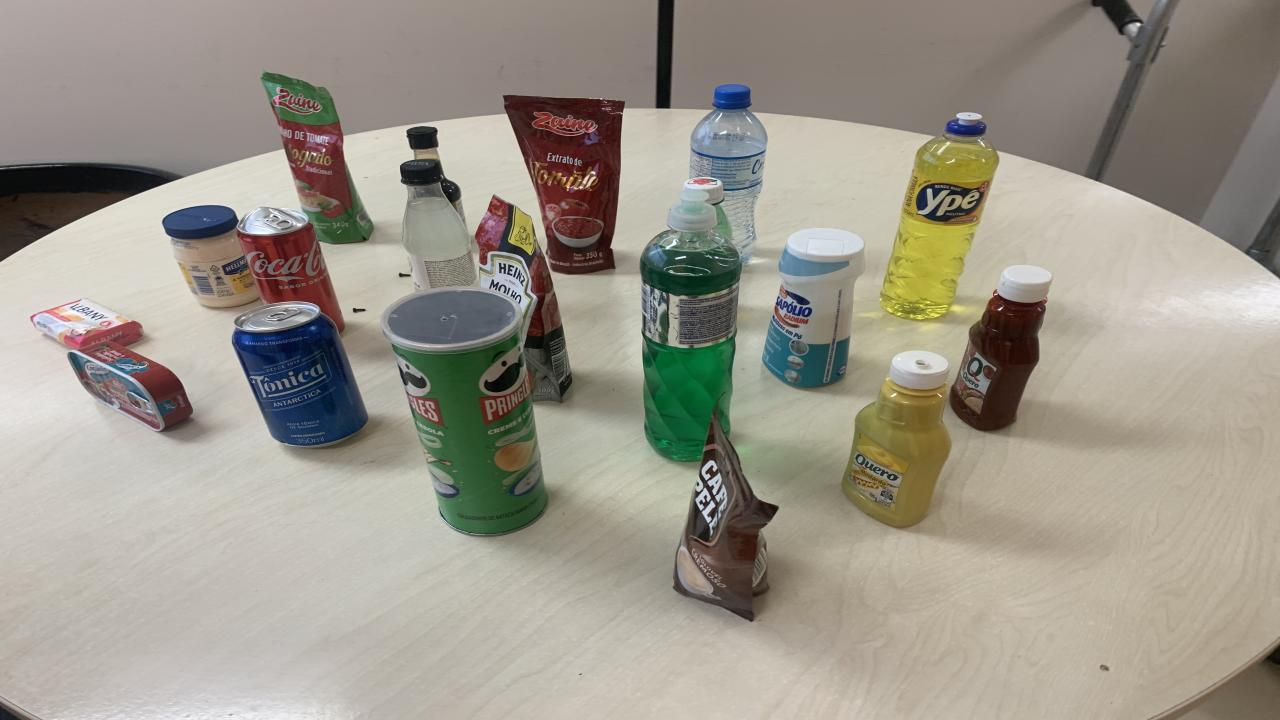Cleaner-Cleanup_Items: (762, 229, 865, 388)
Coffee-Pantry_Items: (672, 416, 778, 621)
Coke-Drinks: (235, 206, 345, 330)
Detergent-Cleanup_Items: (640, 189, 742, 463), (880, 112, 1000, 319)
English_Sauce-Pantry_Items: (440, 169, 465, 221), (408, 126, 440, 161)
Ketchup-Pantry_Items: (950, 264, 1052, 431)
Mayonnaise-Pantry_Items: (162, 204, 258, 308)
Mustard-Pantry_Items: (842, 351, 950, 527)
Pringles-Snacks: (382, 287, 548, 534)
Soap-Cleanup_Items: (30, 298, 142, 349)
Soda-Drinks: (400, 159, 478, 291)
Tomato_Sauce-Pantry_Items: (505, 96, 625, 274), (475, 197, 572, 401), (262, 73, 372, 244)
Tonic-Drinks: (232, 302, 368, 446)
Tuna_Can-Pantry_Items: (68, 343, 192, 431)
Water_Bottle-Drinks: (690, 84, 768, 262)
